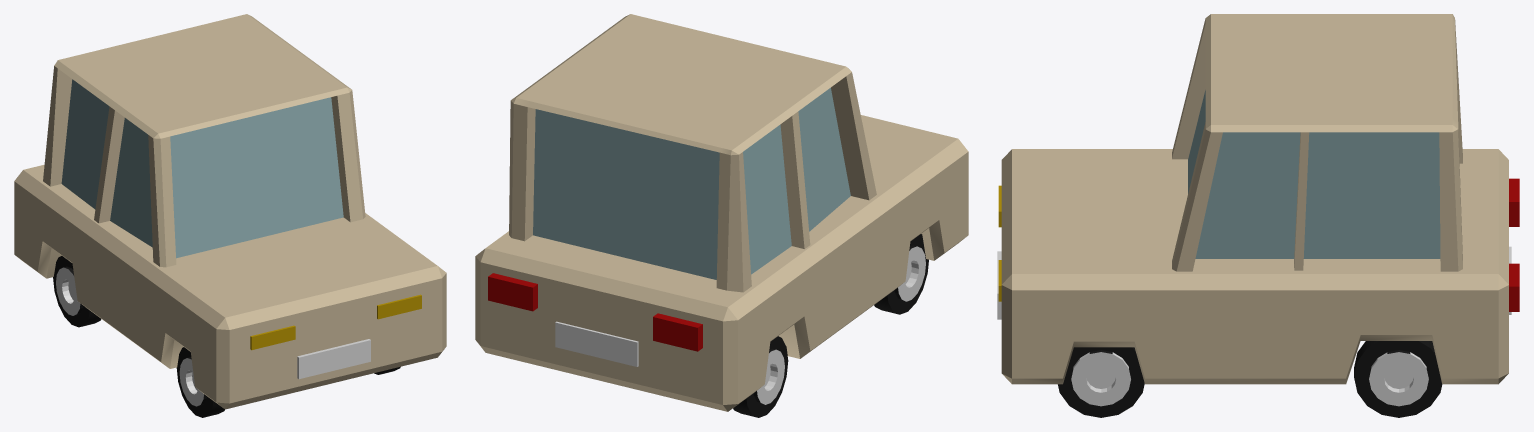
The model's file is Ncar1 (2).fbx.
The picture shows the model from 3 angles, left to right: view 1: azimuth 30°, elevation 25°; view 2: azimuth 150°, elevation 25°; view 3: azimuth 270°, elevation 25°; orthographic projection. The views are drawn at different scales.
Parts seen in each view (by area): view 1: car2; view 2: car2; view 3: car2.
Part boxes in pixels (x1,y1,x2,y2): car2: [14, 14, 446, 417]; car2: [475, 14, 968, 417]; car2: [997, 14, 1519, 417].
Size of the model in its own units: 2.33 by 2.38 by 3.8.
